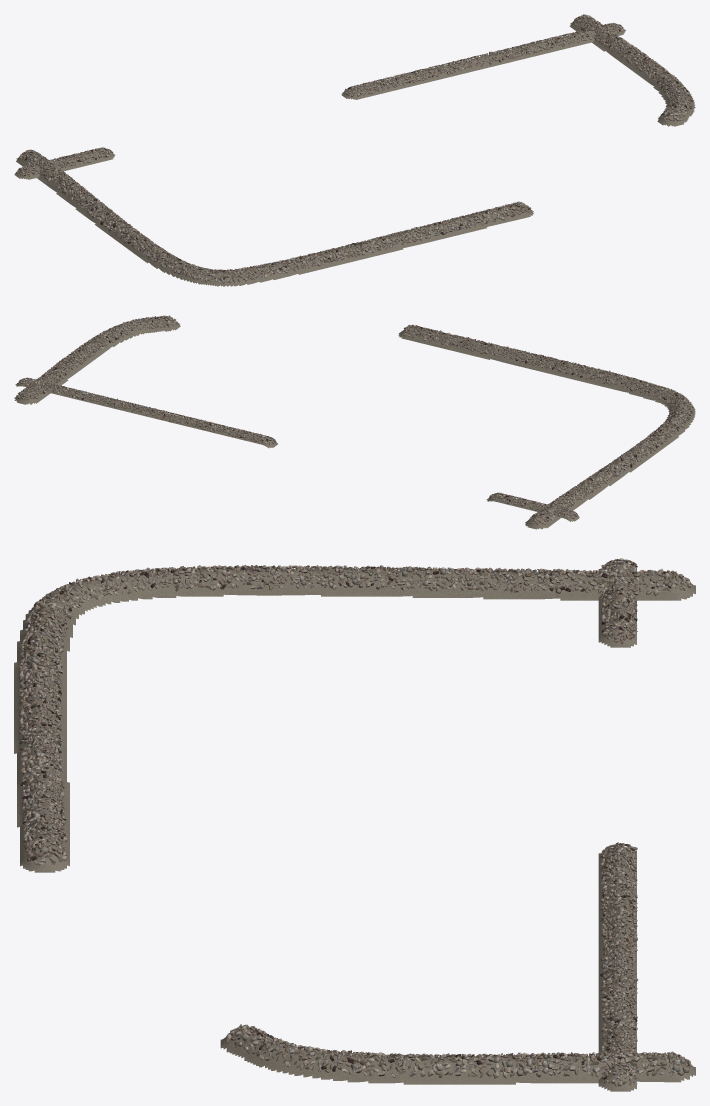
File: port_rocks.glb
The picture shows the model from 3 angles, top to bottom: view 1: azimuth 30°, elevation 25°; view 2: azimuth 150°, elevation 25°; view 3: azimuth 270°, elevation 25°; orthographic projection. The views are drawn at different scales.
Visible parts, largest first — view 1: core_west, core_bankE, core_east, core_bankW, rk_west_05_B, rk_bankE_00_B, rk_west_06_B, rk_west_07_B, rk_west_09_B, rk_west_08_B, rk_west_04_B, rk_east_03_B (+11 smaller); view 2: core_west, core_east, core_bankE, rk_east_00_B, rk_west_00_B, rk_west_06_B, rk_west_08_B, rk_west_09_B, rk_west_07_B, rk_west_02_B, rk_west_01_B, rk_west_03_B (+11 smaller); view 3: core_west, core_east, core_bankE, rk_east_01_B, rk_east_00_B, rk_west_00_B, rk_west_01_B, rk_west_03_B, rk_east_02_B, rk_west_06_B, rk_west_07_B, rk_west_02_B (+12 smaller).
Part boxes in pixels (bbox=[...]): core_west: bbox=[16, 151, 533, 286]; core_bankE: bbox=[341, 25, 625, 99]; core_east: bbox=[569, 17, 695, 126]; core_bankW: bbox=[14, 149, 115, 179]; rk_west_05_B: bbox=[200, 263, 271, 283]; rk_bankE_00_B: bbox=[344, 72, 417, 96]; rk_west_06_B: bbox=[266, 251, 330, 273]; rk_west_07_B: bbox=[323, 236, 387, 261]; rk_west_09_B: bbox=[437, 208, 501, 234]; rk_west_08_B: bbox=[379, 222, 444, 248]; rk_west_04_B: bbox=[150, 249, 206, 279]; rk_east_03_B: bbox=[660, 89, 692, 121]; core_west: bbox=[398, 327, 695, 529]; core_east: bbox=[14, 318, 180, 404]; core_bankE: bbox=[15, 379, 277, 448]; rk_east_00_B: bbox=[16, 367, 66, 400]; rk_west_00_B: bbox=[528, 492, 577, 524]; rk_west_06_B: bbox=[588, 368, 647, 391]; rk_west_08_B: bbox=[483, 342, 541, 365]; rk_west_09_B: bbox=[429, 330, 488, 353]; rk_west_07_B: bbox=[536, 355, 595, 378]; rk_west_02_B: bbox=[598, 448, 643, 478]; rk_west_01_B: bbox=[563, 469, 611, 499]; rk_west_03_B: bbox=[628, 426, 674, 456]; core_west: bbox=[14, 569, 695, 872]; core_east: bbox=[220, 1029, 695, 1084]; core_bankE: bbox=[598, 846, 636, 1091]; rk_east_01_B: bbox=[434, 1052, 553, 1078]; rk_east_00_B: bbox=[552, 1051, 691, 1076]; rk_west_00_B: bbox=[551, 568, 690, 595]; rk_west_01_B: bbox=[432, 567, 552, 592]; rk_west_03_B: bbox=[196, 565, 317, 590]; rk_east_02_B: bbox=[315, 1049, 436, 1077]; rk_west_06_B: bbox=[18, 624, 64, 685]; rk_west_07_B: bbox=[18, 674, 62, 736]; rk_west_02_B: bbox=[315, 565, 436, 590].
Size of the model in its own units: 423 by 7.07 by 231.
Materials: 2 (2 with a texture image).
